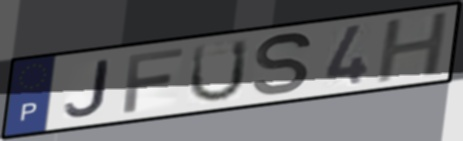4: (322, 22, 371, 89)
F: (121, 46, 187, 115)
H: (373, 9, 453, 87)
J: (62, 57, 111, 118)
S: (251, 30, 315, 97)
U: (186, 37, 251, 105)
